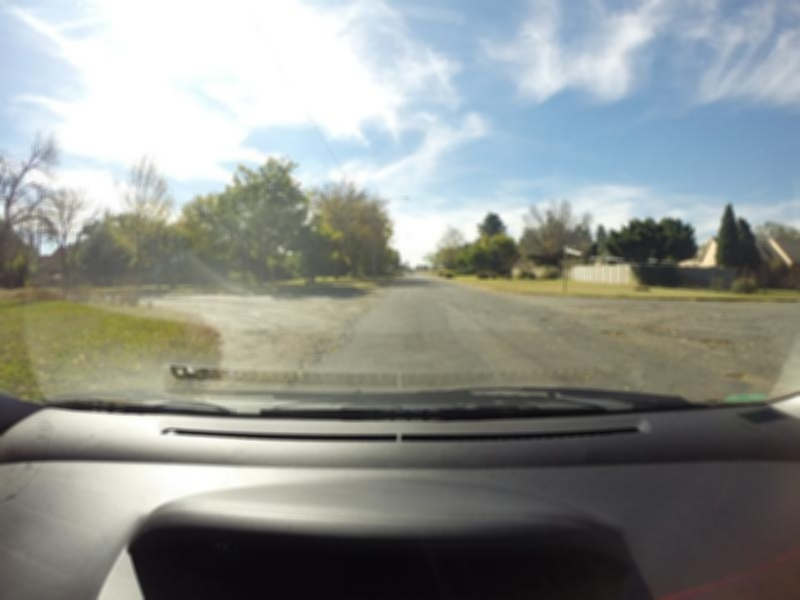pothole: (703, 331, 745, 350), (598, 324, 640, 339), (717, 366, 750, 381)
